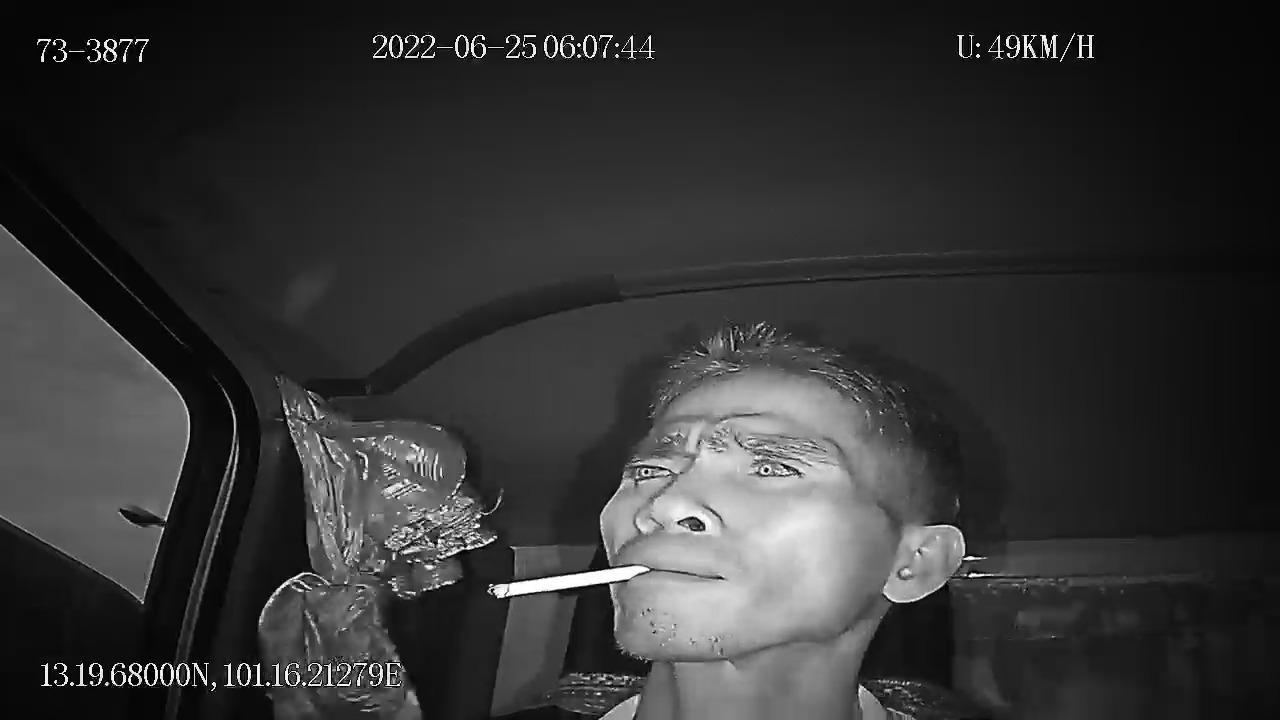Smoking: (476, 547, 667, 611)
